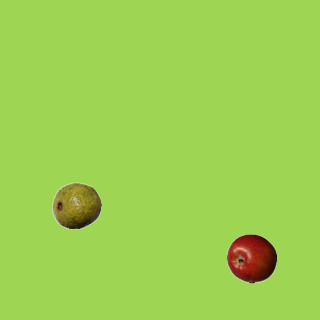Apple Braeburn: (226, 233, 276, 283)
Guava: (51, 180, 101, 230)
